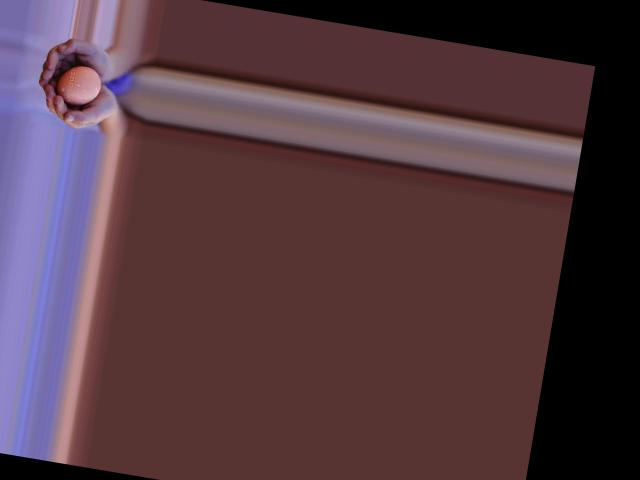egg: (54, 61, 104, 108)
